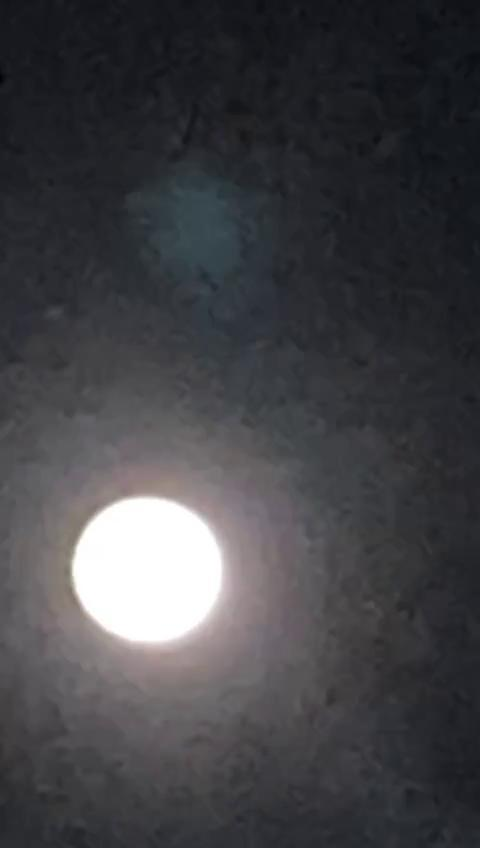moon: (62, 471, 234, 662)
